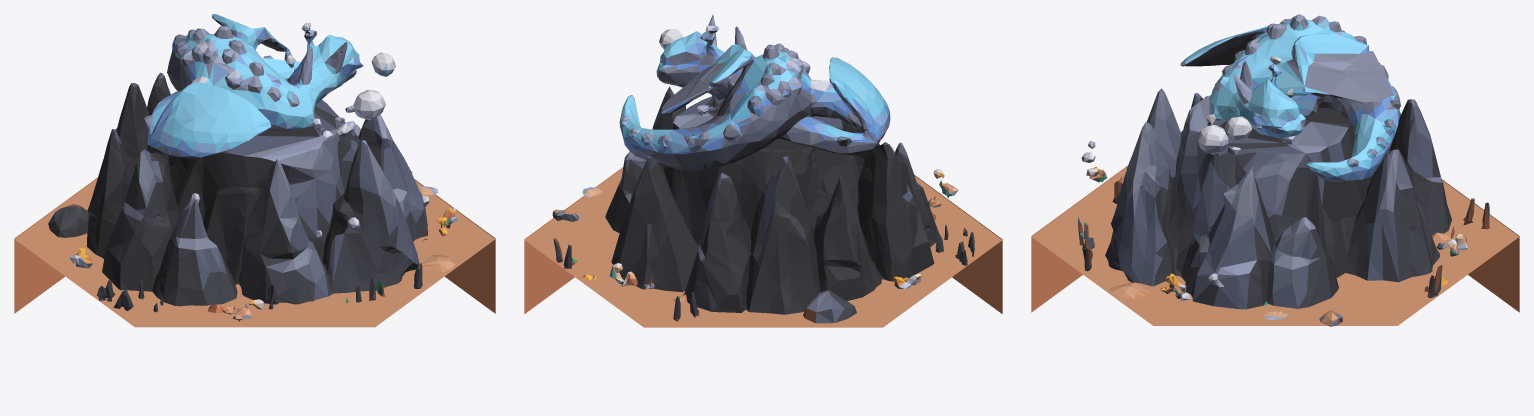
Rendered from dragon-mountain.glb.
The picture shows the model from 3 angles, left to right: view 1: azimuth 30°, elevation 25°; view 2: azimuth 150°, elevation 25°; view 3: azimuth 270°, elevation 25°; orthographic projection. The views are drawn at different scales.
Visible parts, largest first — view 1: world, hexBase; view 2: world, hexBase; view 3: world, hexBase.
Boxes of the visible parts, x1=… form: world: x1=48, y1=14, x2=457, y2=321; hexBase: x1=14, y1=177, x2=495, y2=327; world: x1=552, y1=14, x2=974, y2=323; hexBase: x1=524, y1=167, x2=1002, y2=327; world: x1=1078, y1=14, x2=1489, y2=326; hexBase: x1=1031, y1=165, x2=1519, y2=325.
Bounding box in the file's own units: 1.02 × 0.7522 × 1.15.
3 materials, 3 textured.
